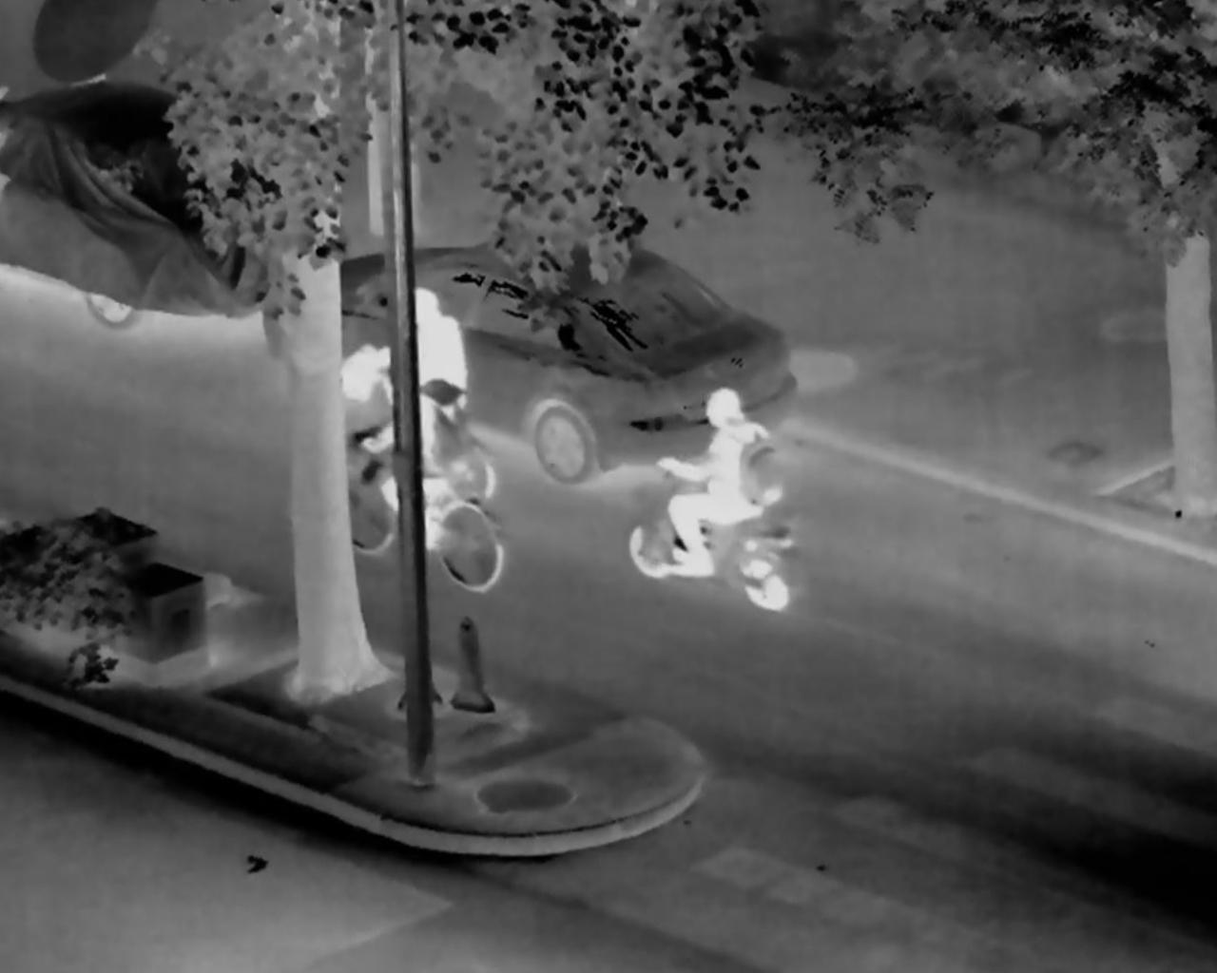person: (657, 389, 775, 578), (365, 374, 464, 547), (369, 289, 470, 419)
